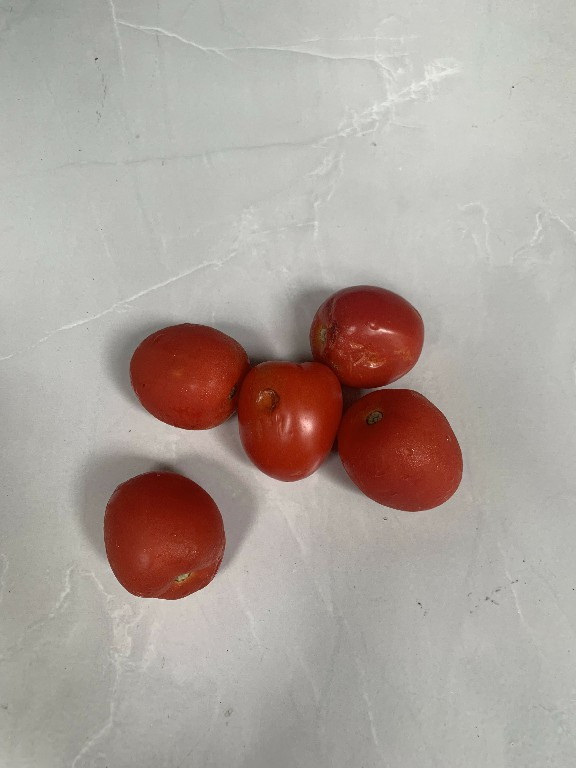NG: (225, 353, 349, 493), (309, 277, 430, 392)
OK: (94, 465, 239, 603), (121, 306, 253, 436), (337, 390, 469, 520)
